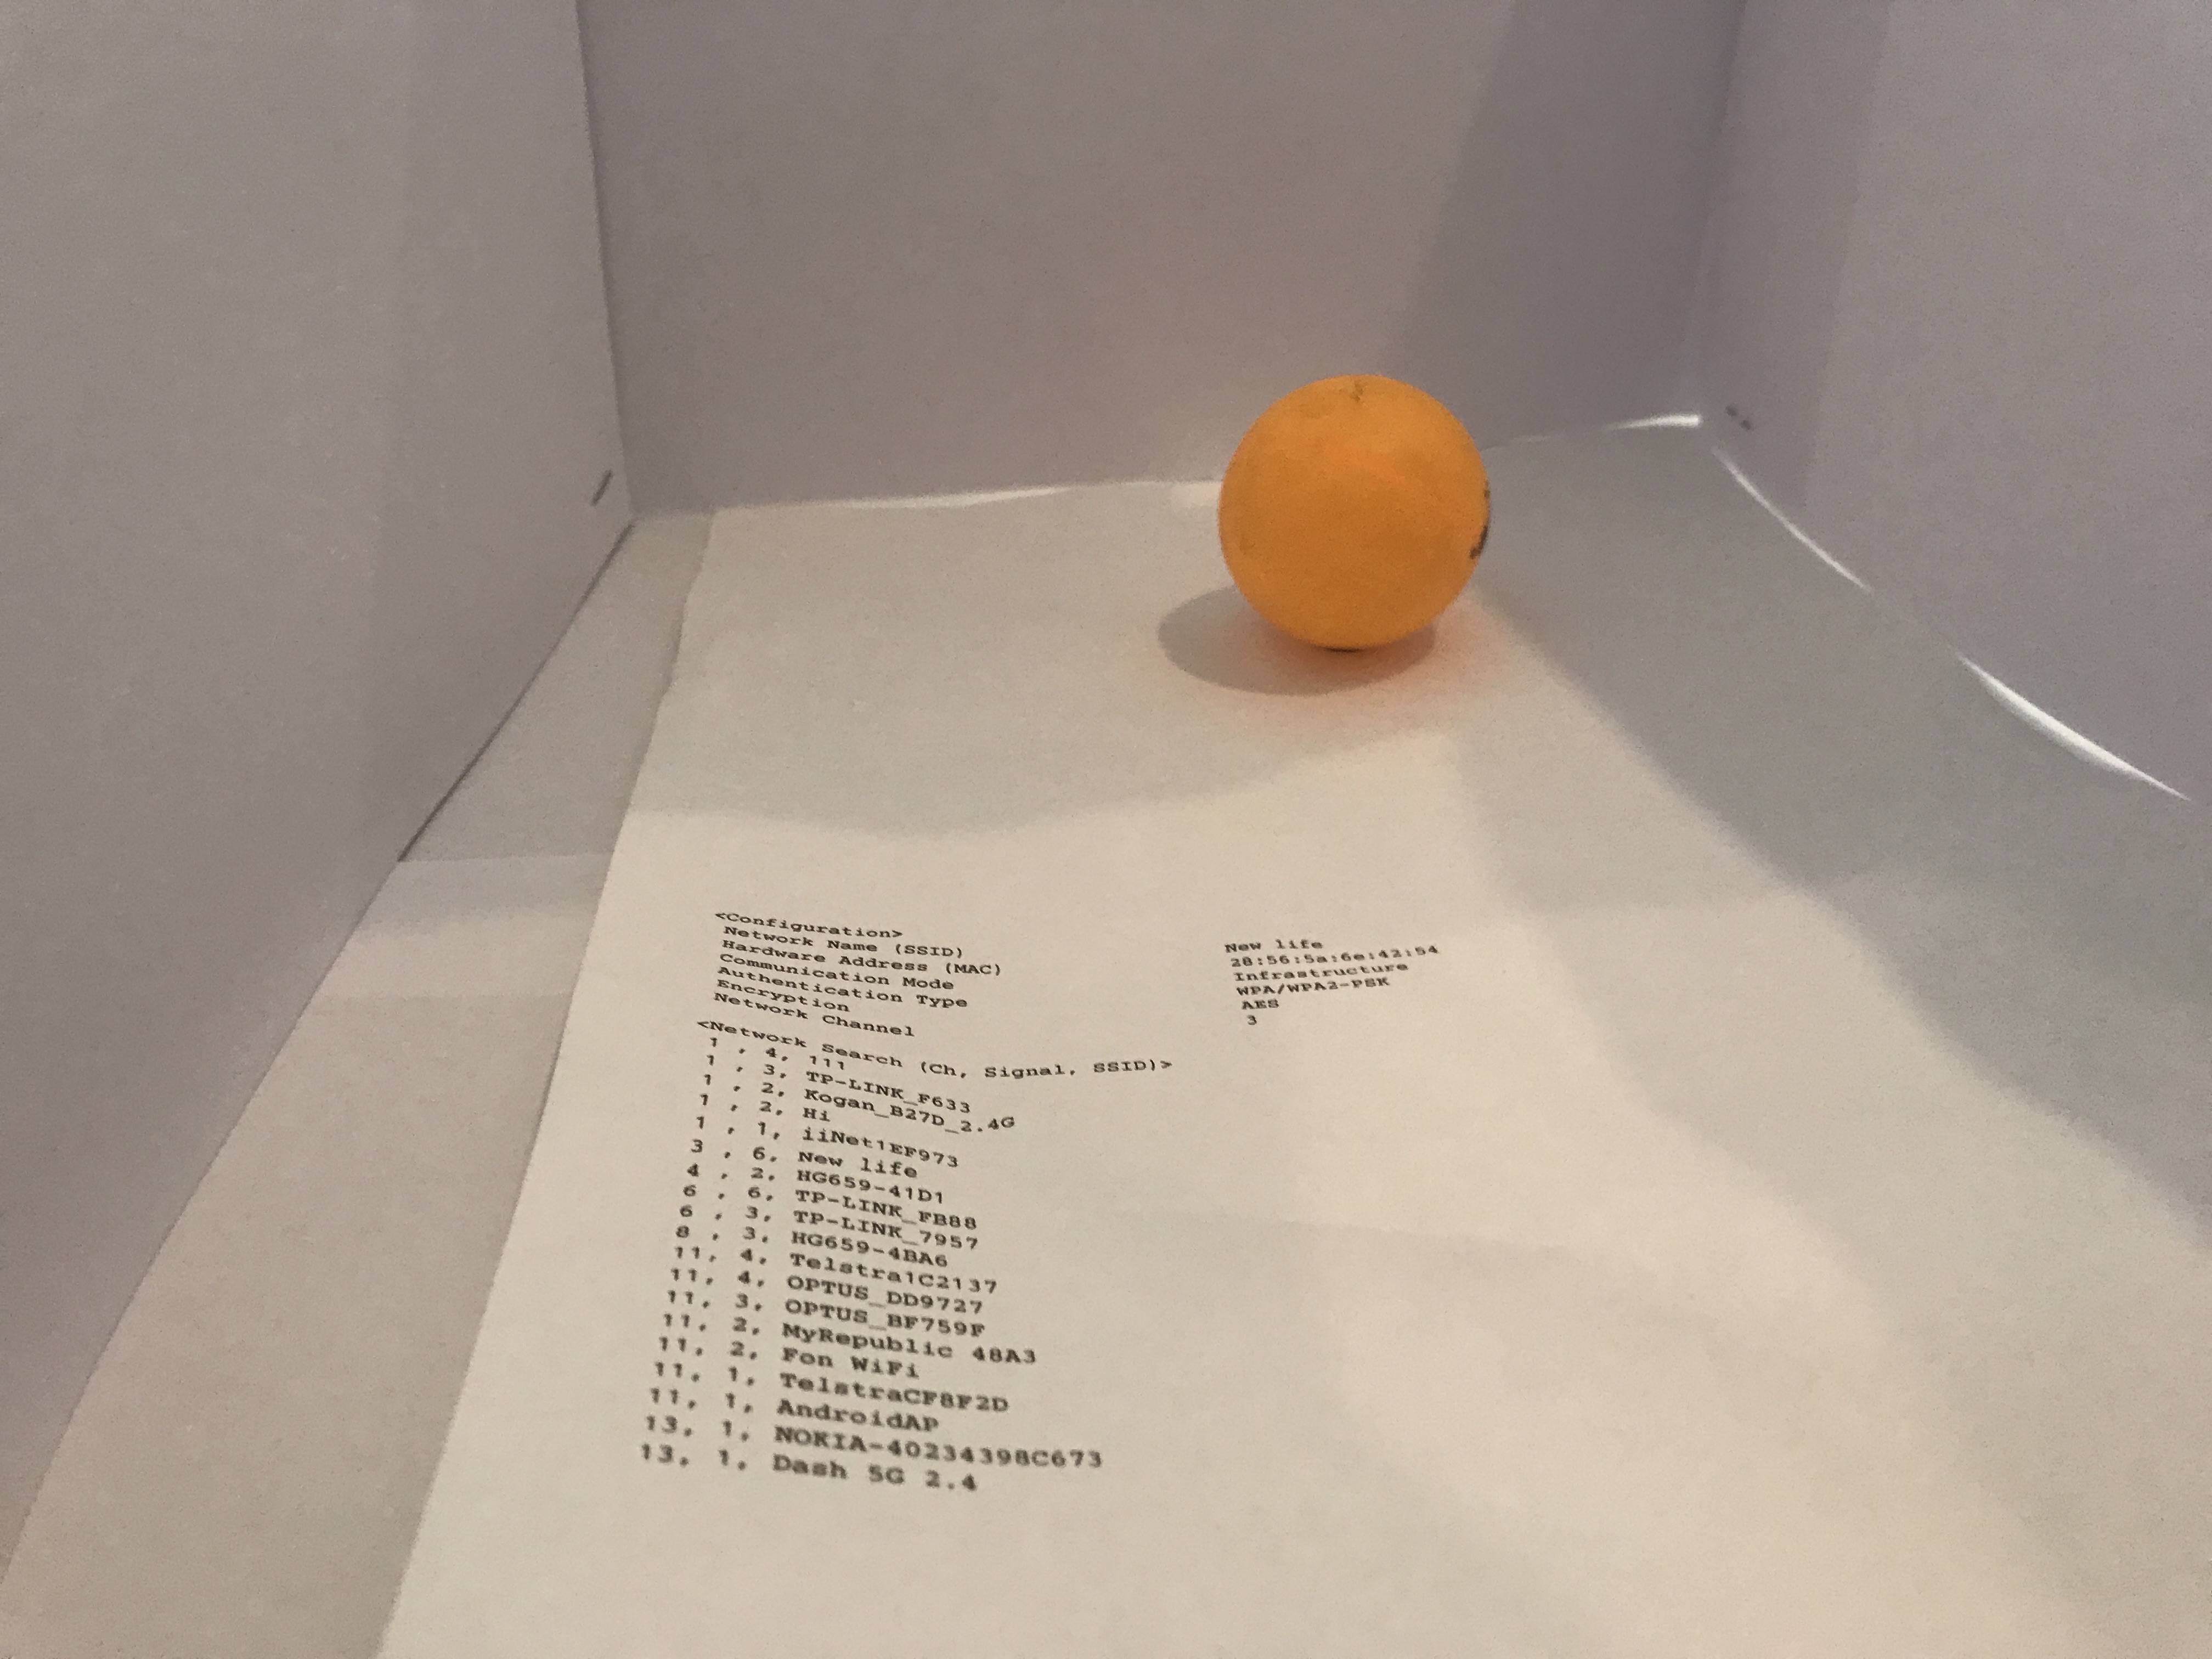pp: (1211, 371, 1494, 652)
